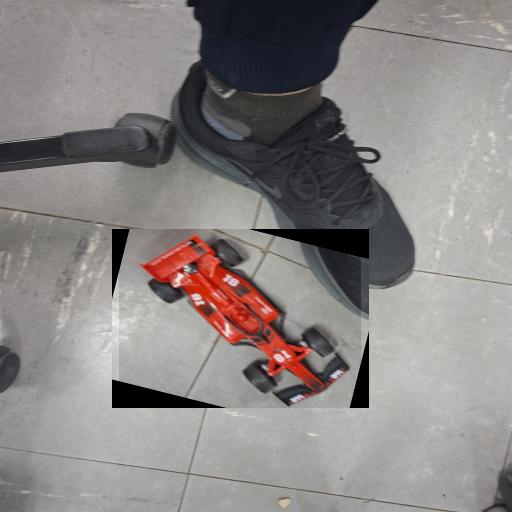carro: (119, 229, 361, 408)
